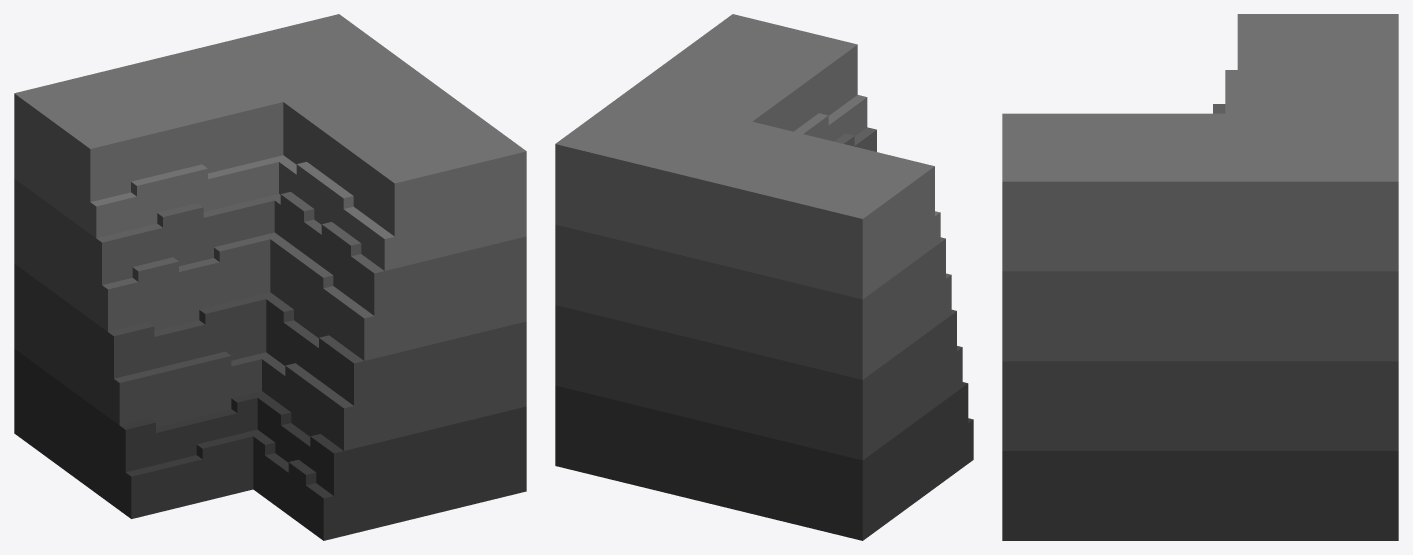
The model's file is mountain-edge-inner-1.gltf.
3 views of the same model, side by side, from view 1: azimuth 30°, elevation 25°; view 2: azimuth 150°, elevation 25°; view 3: azimuth 270°, elevation 25° (orthographic). The views are drawn at different scales.
Visible parts, largest first — view 1: mountain-edge-inner-1; view 2: mountain-edge-inner-1; view 3: mountain-edge-inner-1.
Part boxes in pixels (bbox=[...]): mountain-edge-inner-1: bbox=[14, 14, 526, 540]; mountain-edge-inner-1: bbox=[555, 14, 973, 540]; mountain-edge-inner-1: bbox=[1002, 14, 1398, 540].
Bounding box in the file's own units: 3.2 × 3.2 × 3.2.
Materials: 1 (1 with a texture image).
